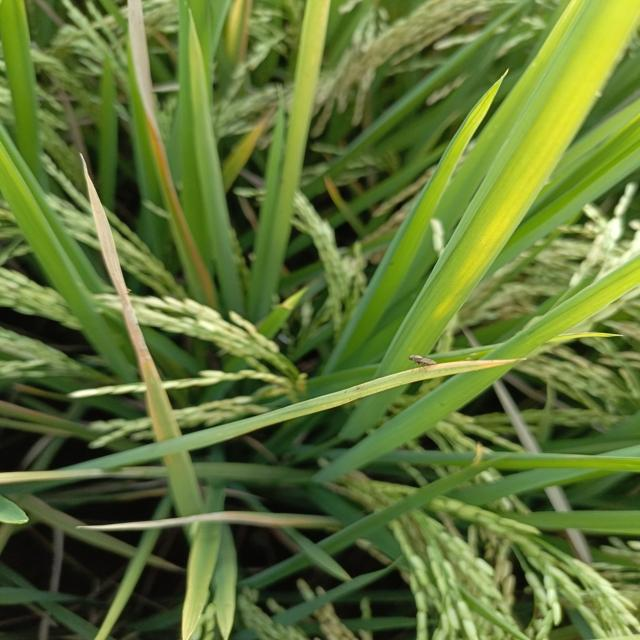Brown spot: (78, 148, 210, 505), (294, 350, 534, 438), (136, 106, 228, 309), (229, 105, 280, 189)
Leaf scald: (405, 350, 440, 376)
